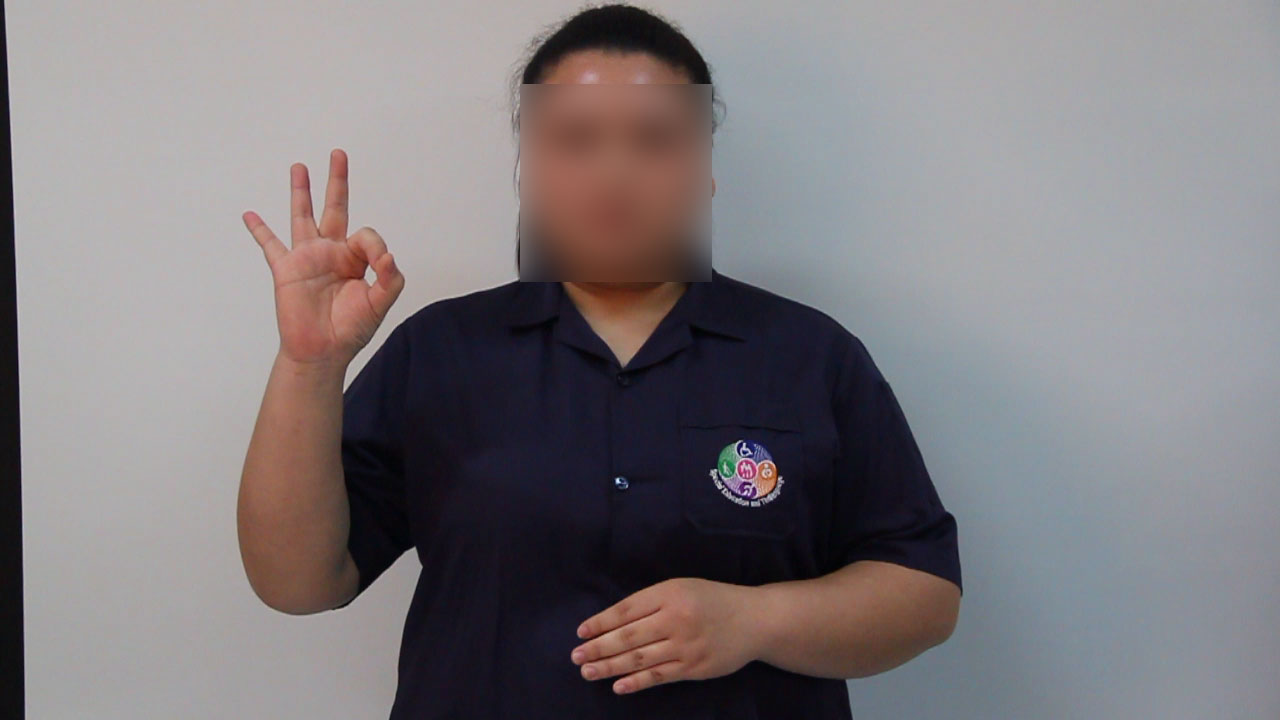for: (229, 138, 417, 390)
